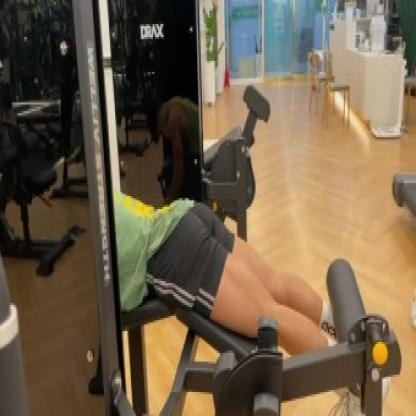reg curl machine: (73, 165, 402, 416)
